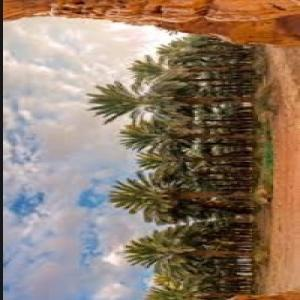palm tree: (84, 33, 273, 299)
